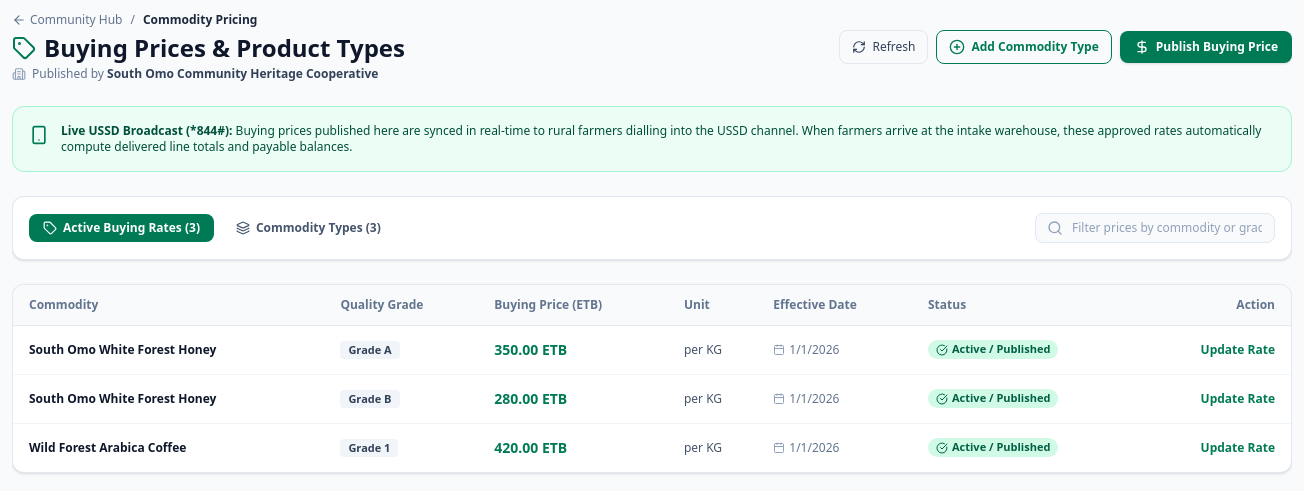
Test case: Product Types and Published Buying Prices (F-803) › filters buying prices by search query
The image size is (1304, 491).
expect the table with test id "buying-prices-table" is shown: met, box [13,285,1291,472]
expect the text "Wild Forest Arabica Coffee" is shown: met, box [29,439,186,456]
Type "Coffee" into the field with test id "pricing-search-input" at coordinates (1155, 228), box [1035,213,1275,243]
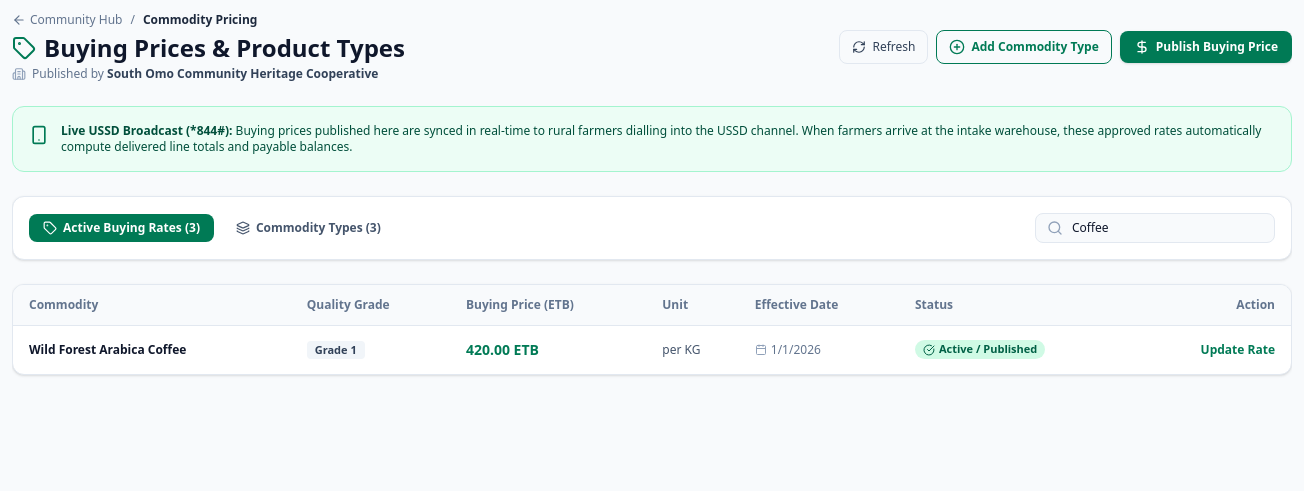
expect the text "Wild Forest Arabica Coffee" is shown: met, box [29,341,186,358]
expect the text "South Omo White Forest Honey" is gone: met
